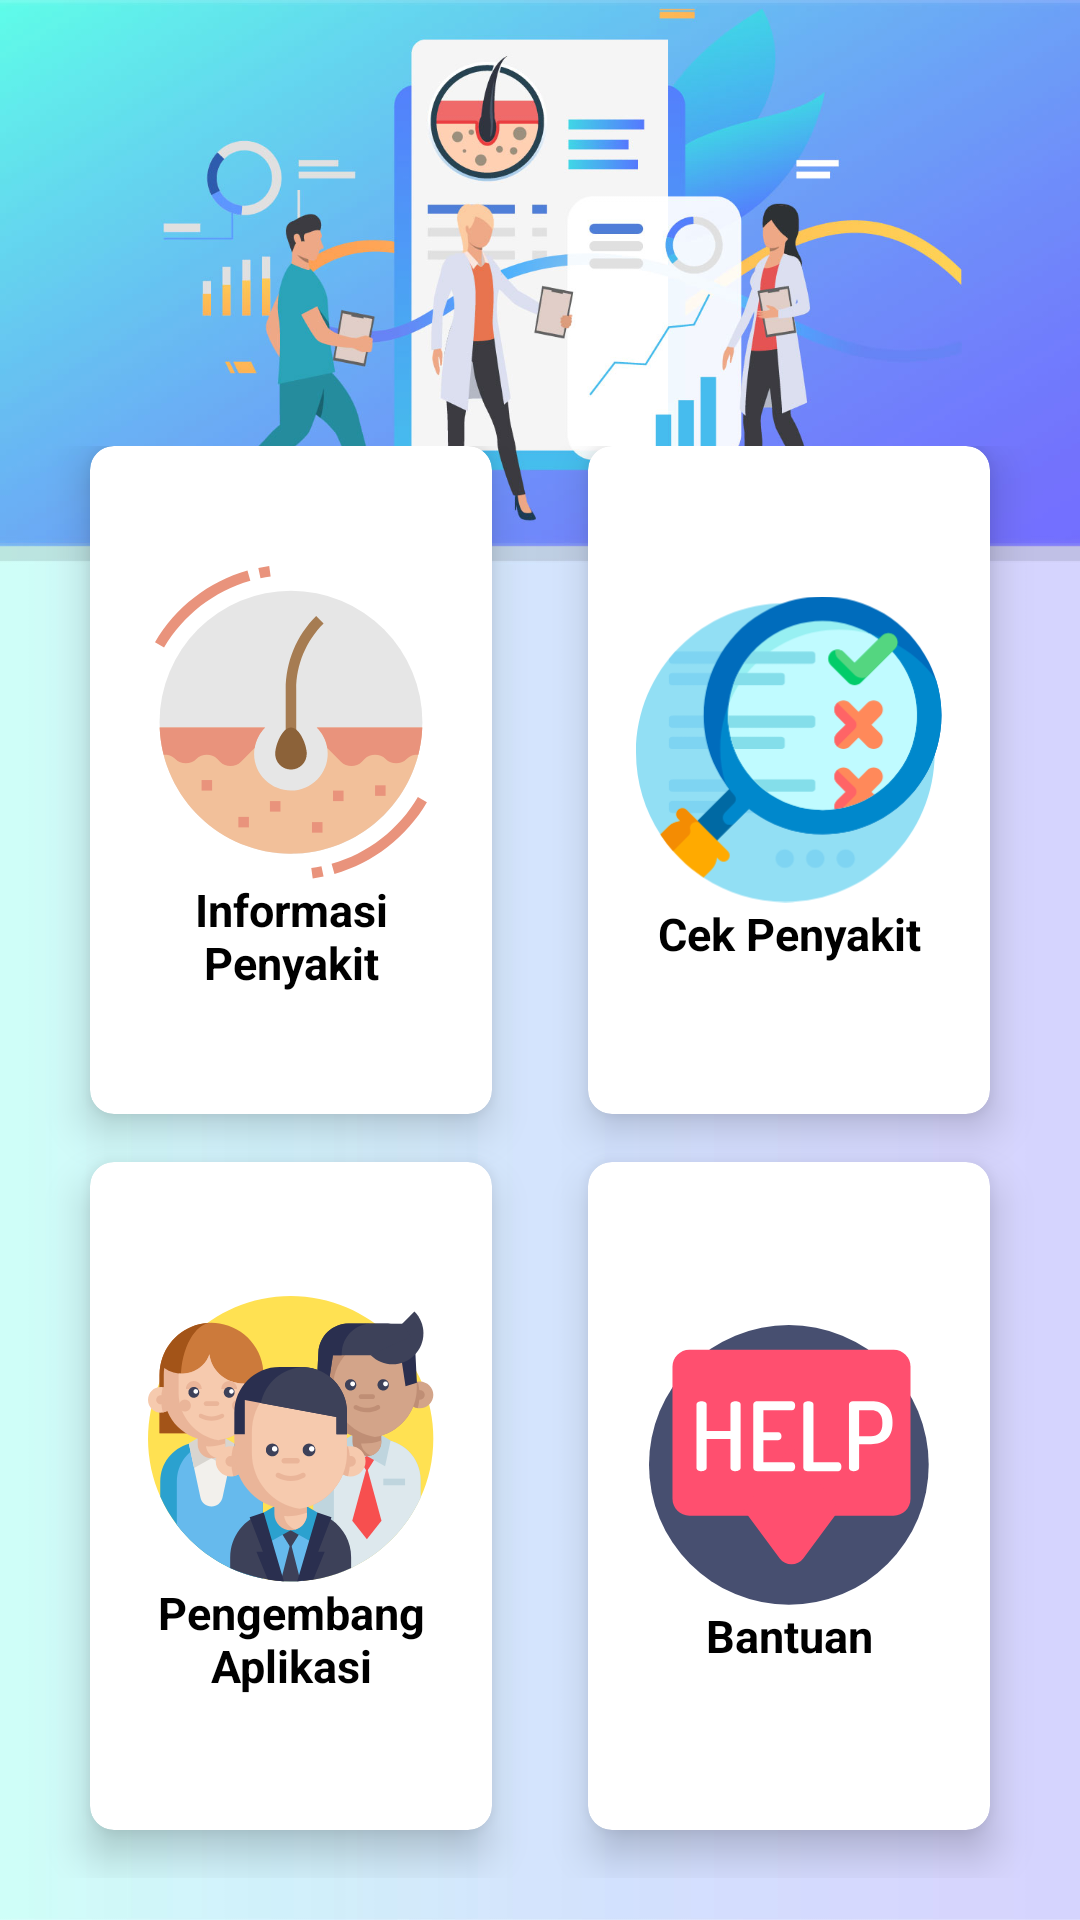

Icon click points for this 1080 × 1920 phone screenshot, format (x=x, y=y):
skin: (x=291, y=722)
teamwork: (x=291, y=1439)
